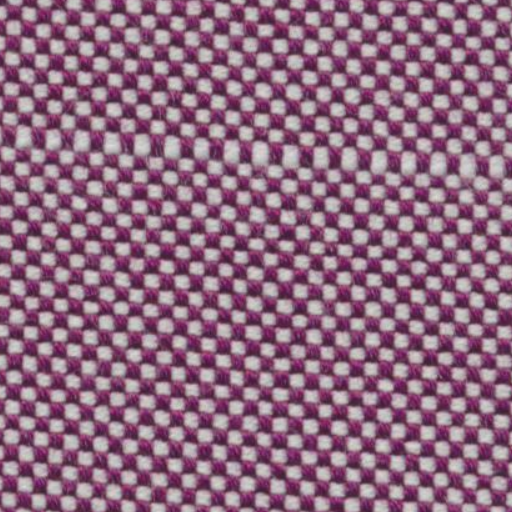TuoSha: (12, 106, 504, 194)
